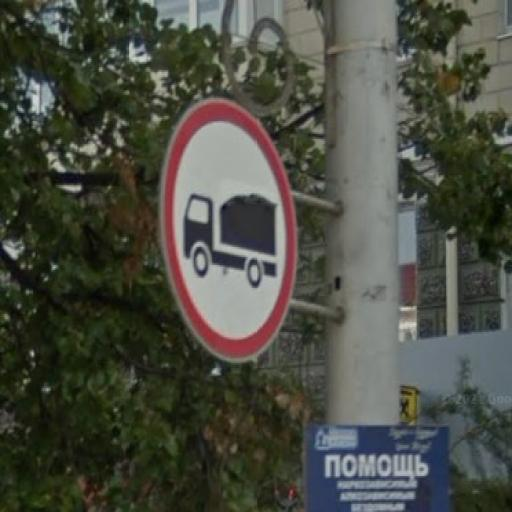traffic_sign: (159, 96, 300, 364)
